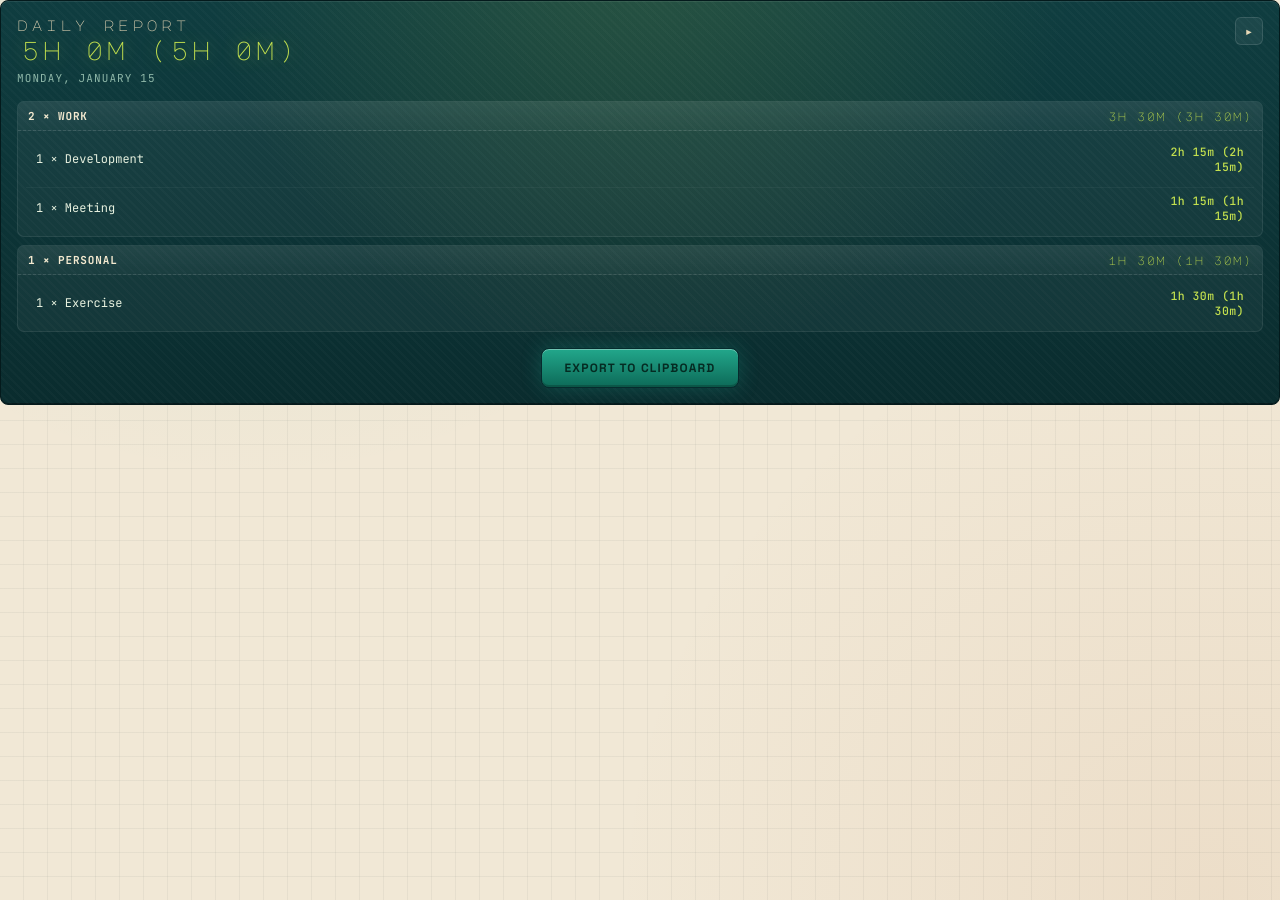
it: DailyReport Component › Export Functionality › should show error toast when both clipboard methods fail
The image size is (1280, 900).
Step 1. Click the button with test id "export-button" → (640, 368), box [542,348,738,388]
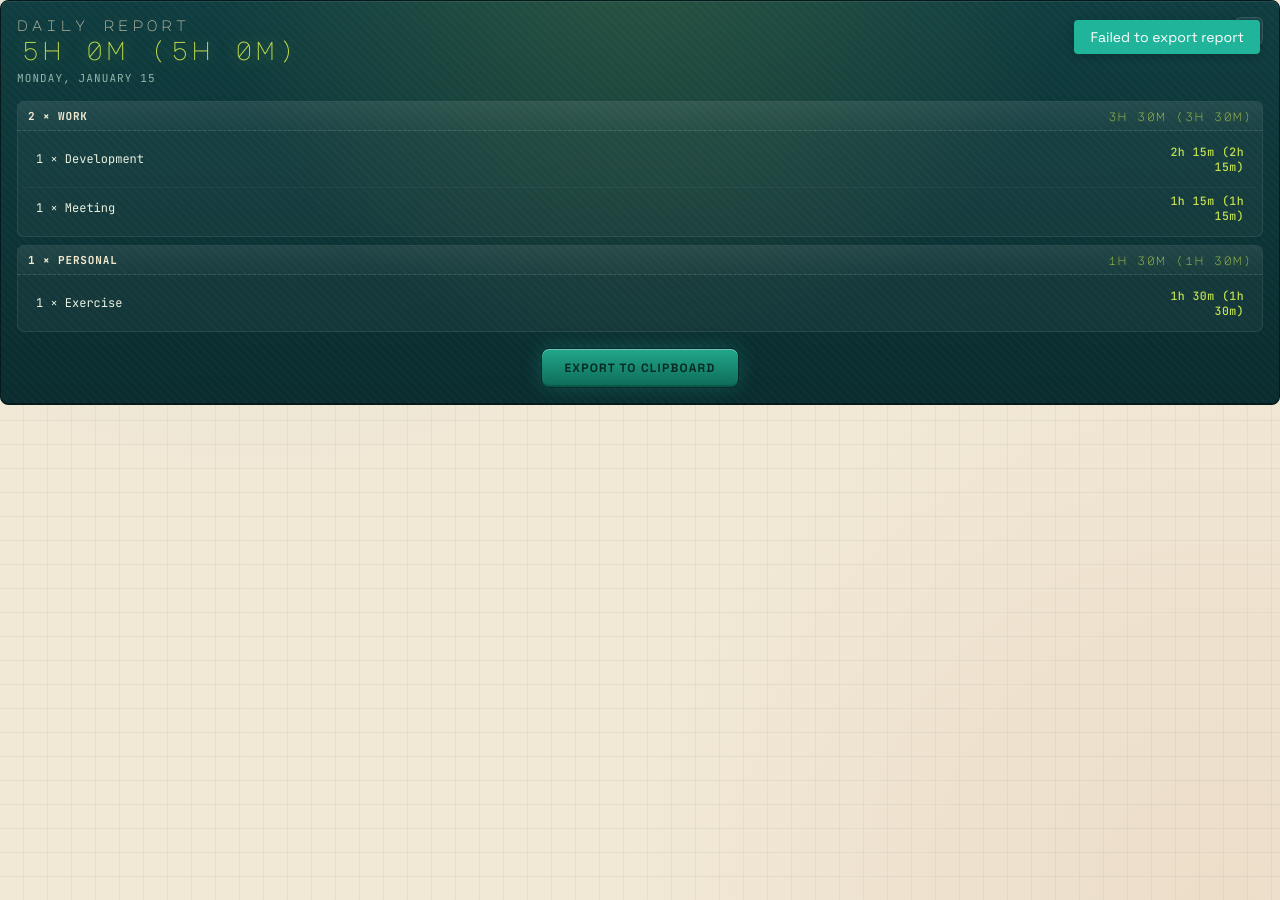
Now the message "Failed to export report" is shown, box [1074,20,1260,54]
Now the message with class "copy-toast" reads "Failed to export report", box [1090,28,1244,46]
